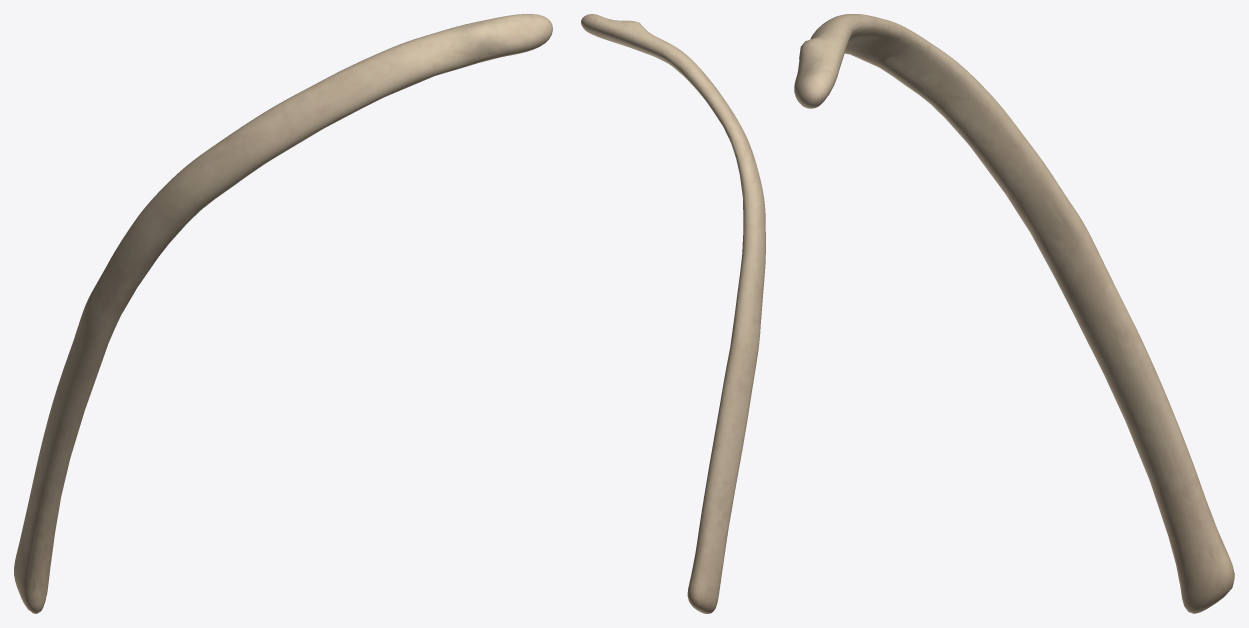
Rendered from Rib R08.fbx.
The picture shows the model from 3 angles, left to right: view 1: azimuth 30°, elevation 25°; view 2: azimuth 150°, elevation 25°; view 3: azimuth 270°, elevation 25°; orthographic projection. The views are drawn at different scales.
Visible parts, largest first — view 1: Rib R08 high, Rib R08, Rib R08 low; view 2: Rib R08 high, Rib R08, Rib R08 low; view 3: Rib R08 low, Rib R08, Rib R08 high.
Boxes of the visible parts, x1,y1,x2,y2 form: Rib R08 high: (14, 14, 552, 611); Rib R08: (14, 14, 552, 613); Rib R08 low: (19, 18, 529, 596); Rib R08 high: (582, 15, 765, 612); Rib R08: (581, 14, 765, 613); Rib R08 low: (604, 18, 753, 581); Rib R08 low: (798, 20, 1223, 594); Rib R08: (794, 14, 1234, 613); Rib R08 high: (794, 14, 1234, 613).
Size of the model in its own units: 14.57 by 24.81 by 13.72.
Materials: 1 (1 with a texture image).
